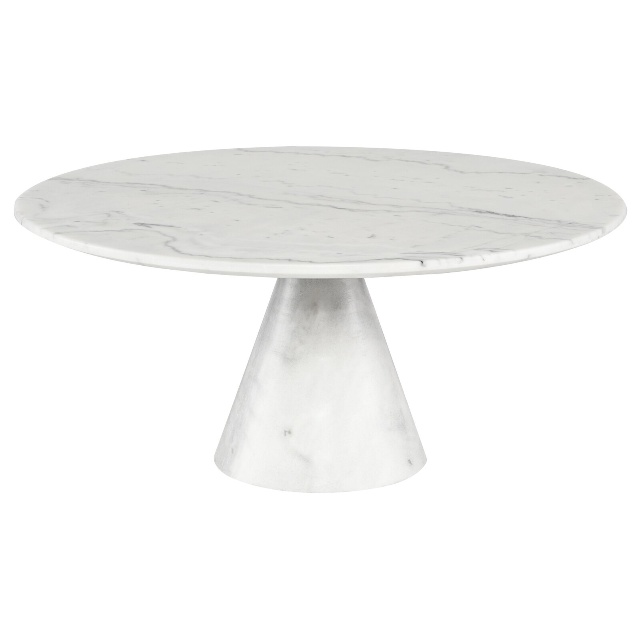obstacle: (15, 147, 626, 492)
